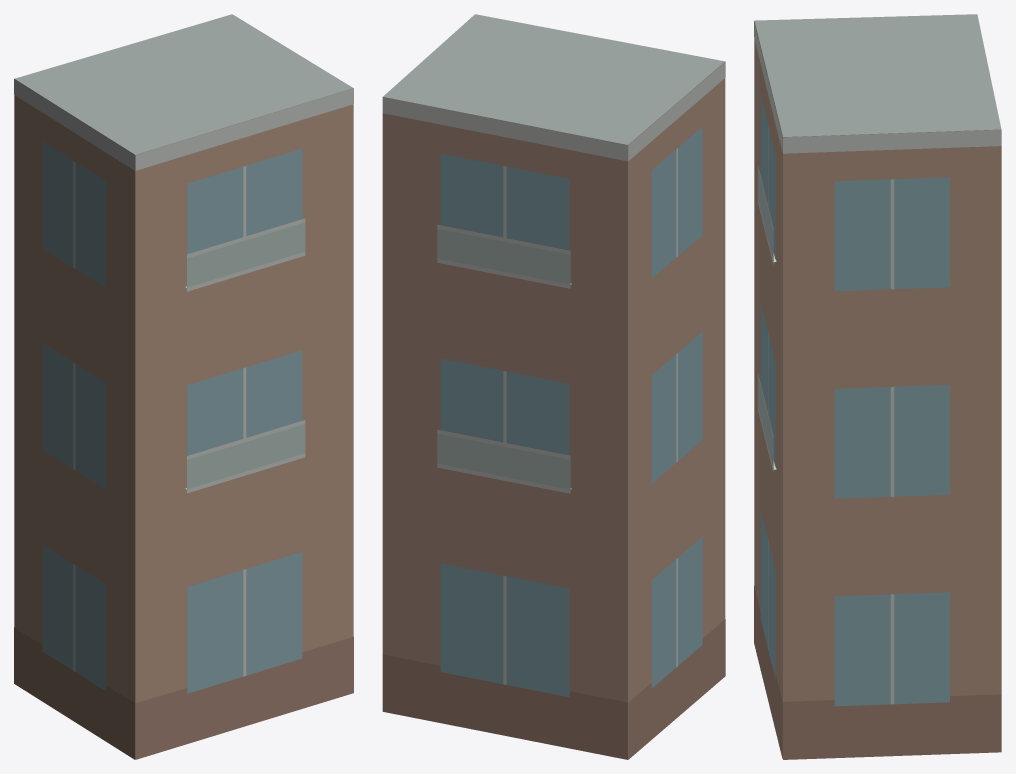
File: survey-upis-32582254.glb
The picture shows the model from 3 angles, left to right: view 1: azimuth 30°, elevation 25°; view 2: azimuth 150°, elevation 25°; view 3: azimuth 270°, elevation 25°; orthographic projection. The views are drawn at different scales.
Visible parts, largest first — view 1: survey-upis-32582254.tmp; view 2: survey-upis-32582254.tmp; view 3: survey-upis-32582254.tmp.
Part boxes in pixels (x1,y1,x2,y2): survey-upis-32582254.tmp: [14, 14, 353, 759]; survey-upis-32582254.tmp: [382, 14, 725, 759]; survey-upis-32582254.tmp: [754, 14, 1001, 759].
Size of the model in its own units: 3.89 by 9.15 by 3.3.
